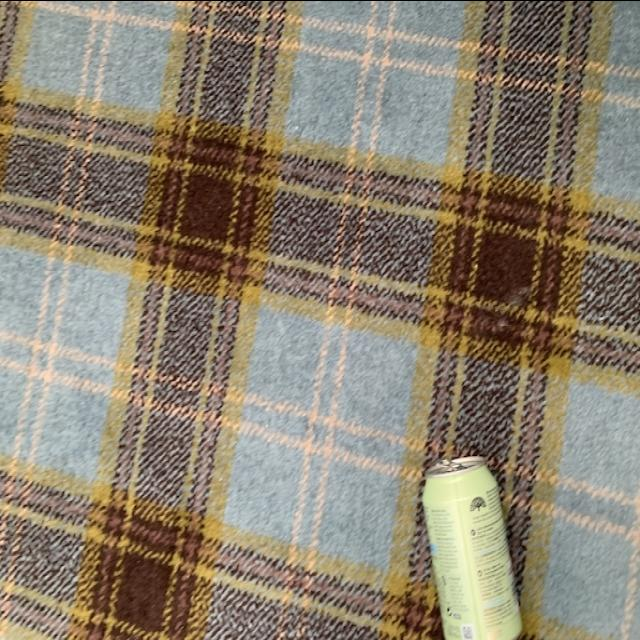litter: (419, 448, 539, 638)
